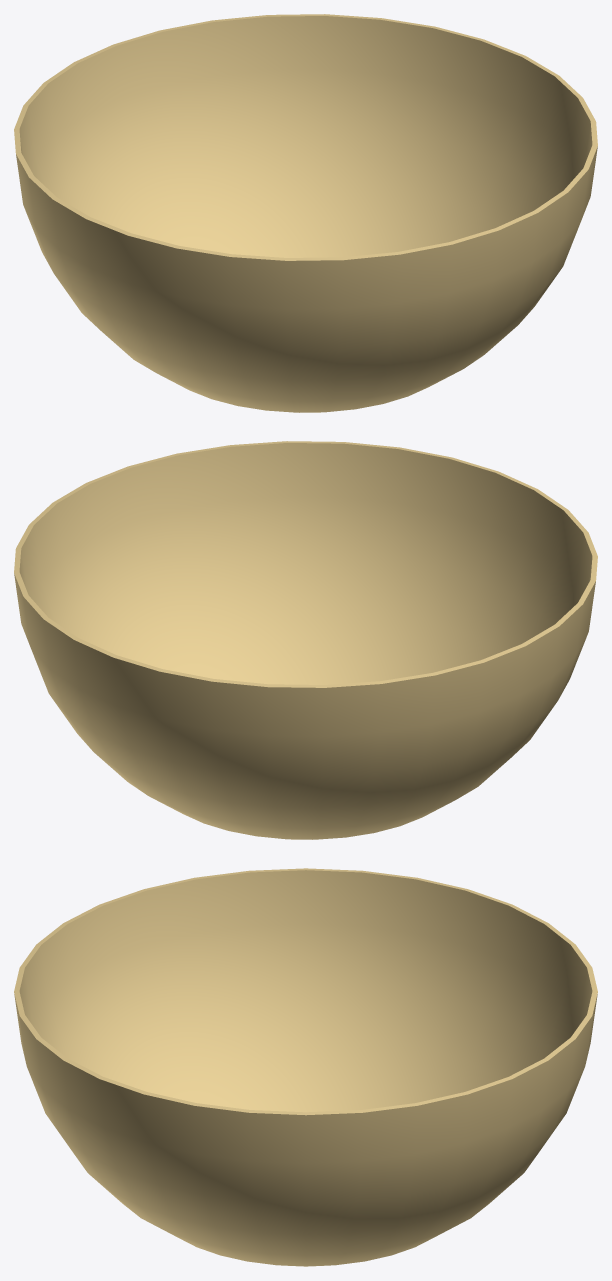
Rendered from bowl.fbx.
3 renders of one model, top to bottom at view 1: azimuth 30°, elevation 25°; view 2: azimuth 150°, elevation 25°; view 3: azimuth 270°, elevation 25°, orthographic.
Parts seen in each view (by area): view 1: bowl; view 2: bowl; view 3: bowl.
Part boxes in pixels (<box>): bowl: <box>14,14,597,412</box>; bowl: <box>14,441,597,839</box>; bowl: <box>14,868,597,1266</box>.
Bounding box in the file's own units: 51.08 × 22.41 × 51.08.
